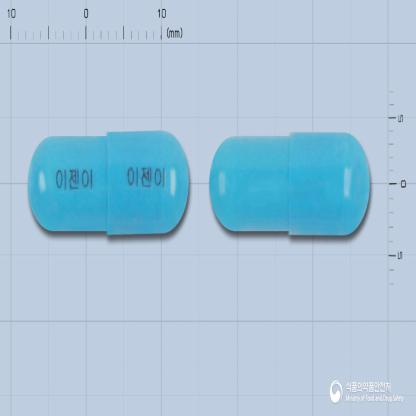pill: (26, 128, 191, 239), (207, 129, 372, 240)
